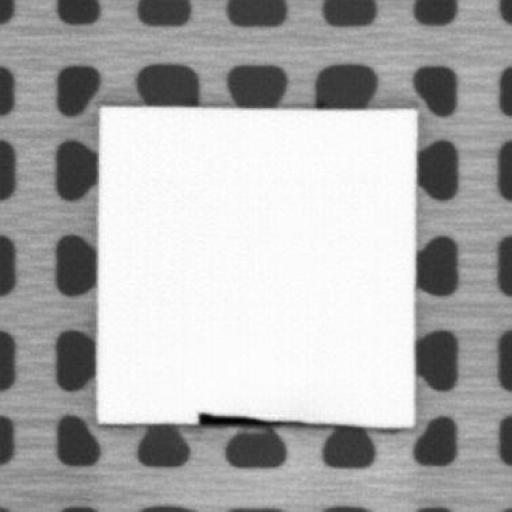DIE_BROKEN: (194, 408, 304, 427)
